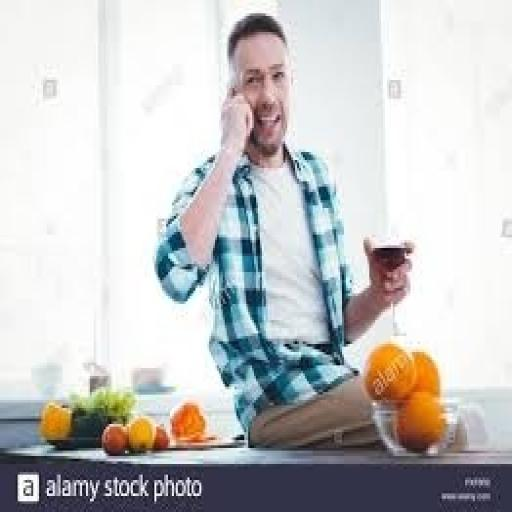calling: (152, 10, 416, 450)
